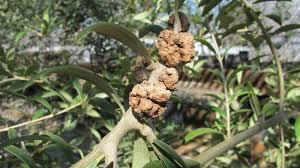Tuberculosis: (127, 80, 172, 120), (155, 27, 197, 67), (159, 67, 179, 92)
